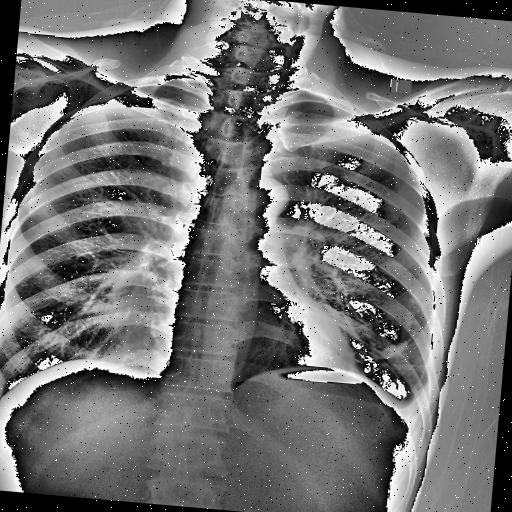10- Pleural effusion: (396, 374, 436, 418), (397, 375, 433, 423), (385, 385, 431, 422)
11- Pleural thickening: (385, 385, 431, 422)
13- Pulmonary fibrosis: (379, 336, 411, 362)
8- Nodule-Mass: (373, 334, 415, 360)
9- Other lesion: (374, 338, 412, 360)
